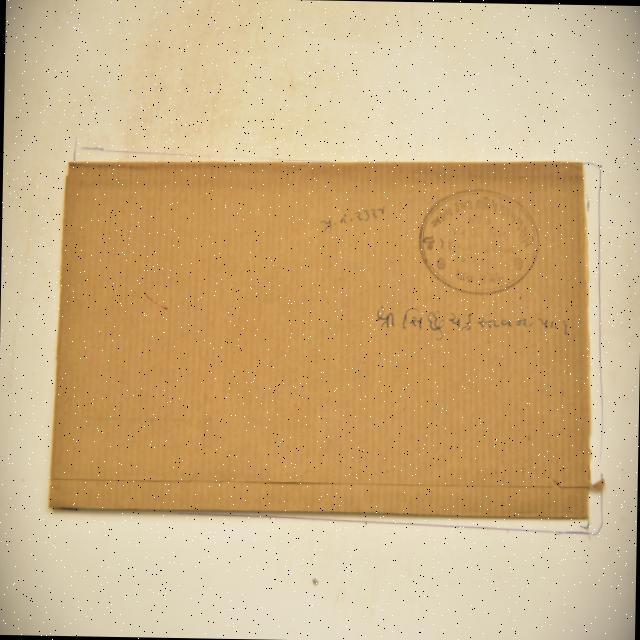text_paragraph: (49, 160, 587, 522)
